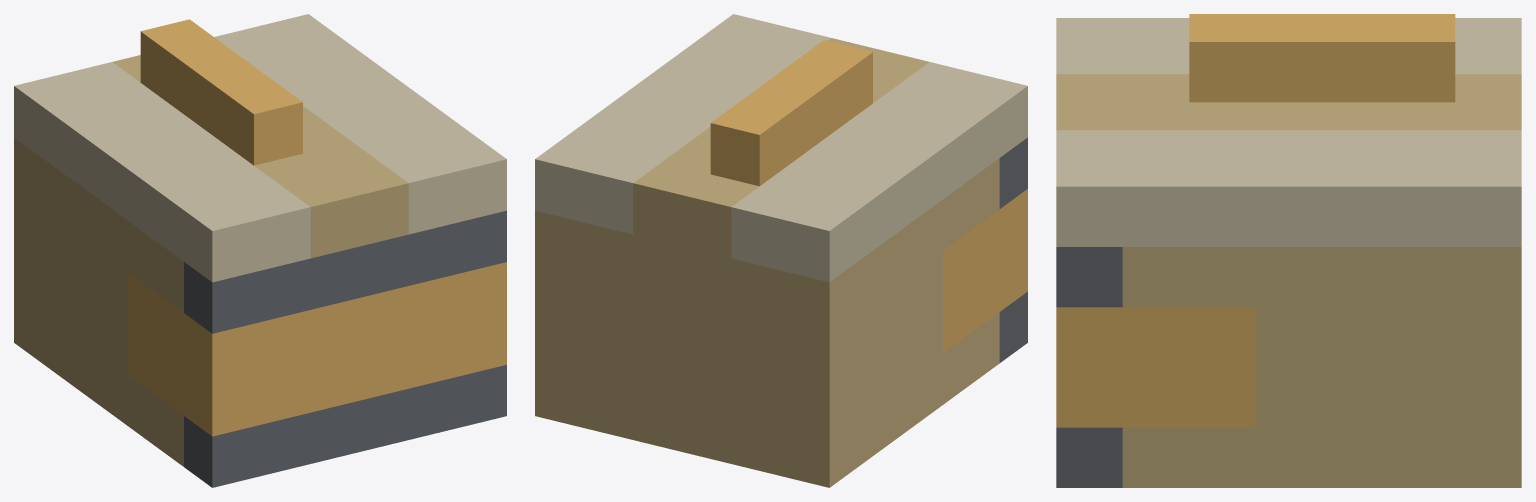
Rendered from head.glb.
The picture shows the model from 3 angles, left to right: view 1: azimuth 30°, elevation 25°; view 2: azimuth 150°, elevation 25°; view 3: azimuth 270°, elevation 25°; orthographic projection. The views are drawn at different scales.
Bounding box in the file's own units: 6 × 6 × 7.
